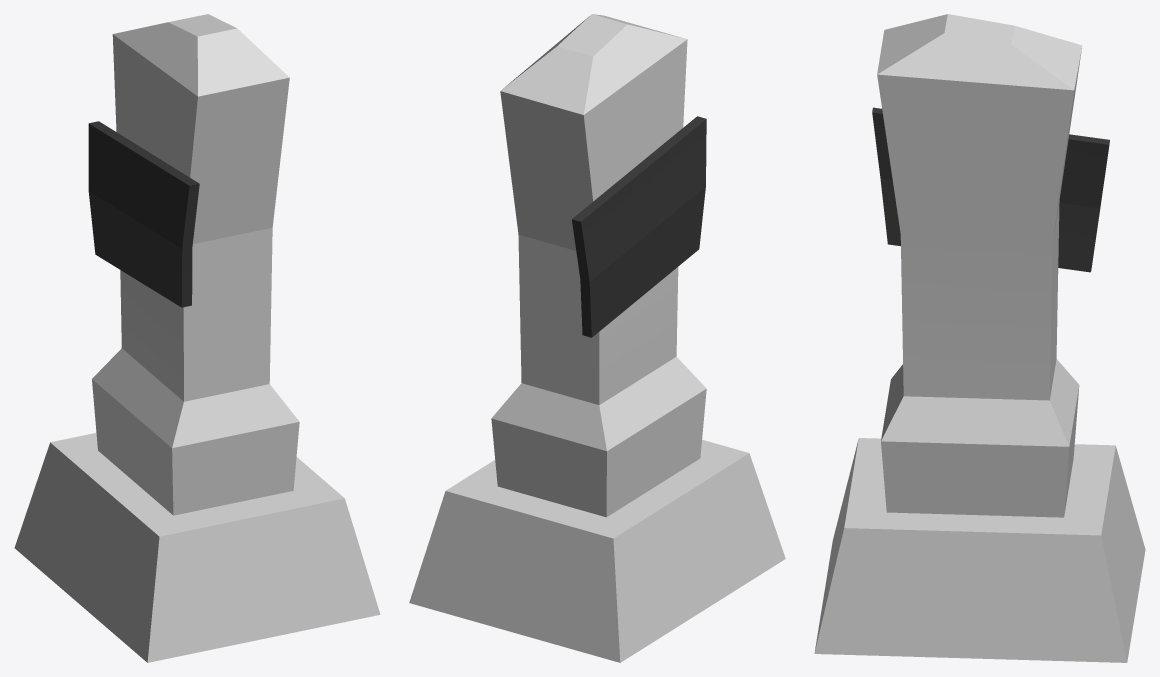
Rendered from ea_grave_modern_mini_01b_pre__1__lev1.glb.
The picture shows the model from 3 angles, left to right: view 1: azimuth 30°, elevation 25°; view 2: azimuth 150°, elevation 25°; view 3: azimuth 270°, elevation 25°; orthographic projection. The views are drawn at different scales.
Visible parts, largest first — view 1: ea_grave_modern_mini_01b_pre__1__lev1; view 2: ea_grave_modern_mini_01b_pre__1__lev1; view 3: ea_grave_modern_mini_01b_pre__1__lev1.
Part boxes in pixels (x1,y1,x2,y2): ea_grave_modern_mini_01b_pre__1__lev1: (14, 14, 380, 662); ea_grave_modern_mini_01b_pre__1__lev1: (409, 14, 785, 662); ea_grave_modern_mini_01b_pre__1__lev1: (814, 14, 1145, 662).
Bounding box in the file's own units: 0.9074 × 2.01 × 1.04.
Materials: 2 (1 with a texture image).
